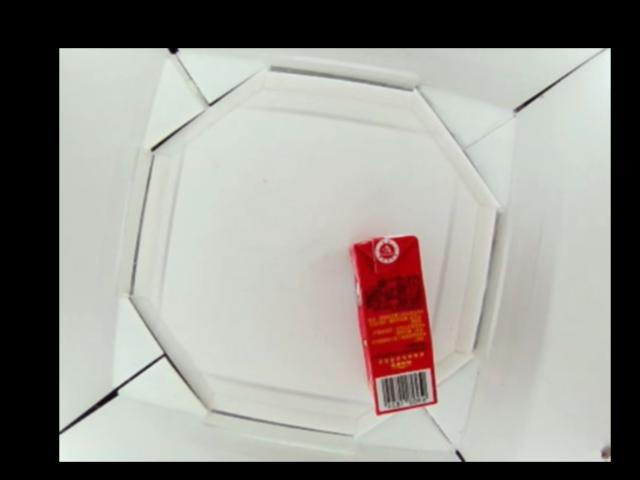Bottle: (351, 235, 433, 416)
